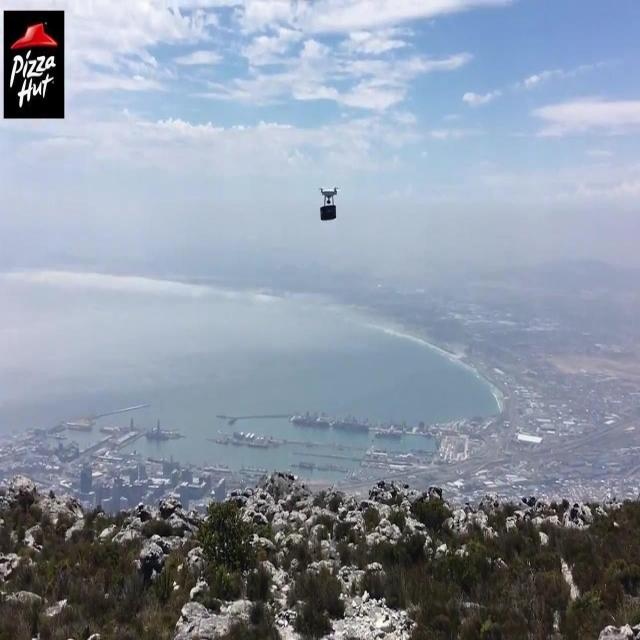UAV: (318, 185, 340, 206)
